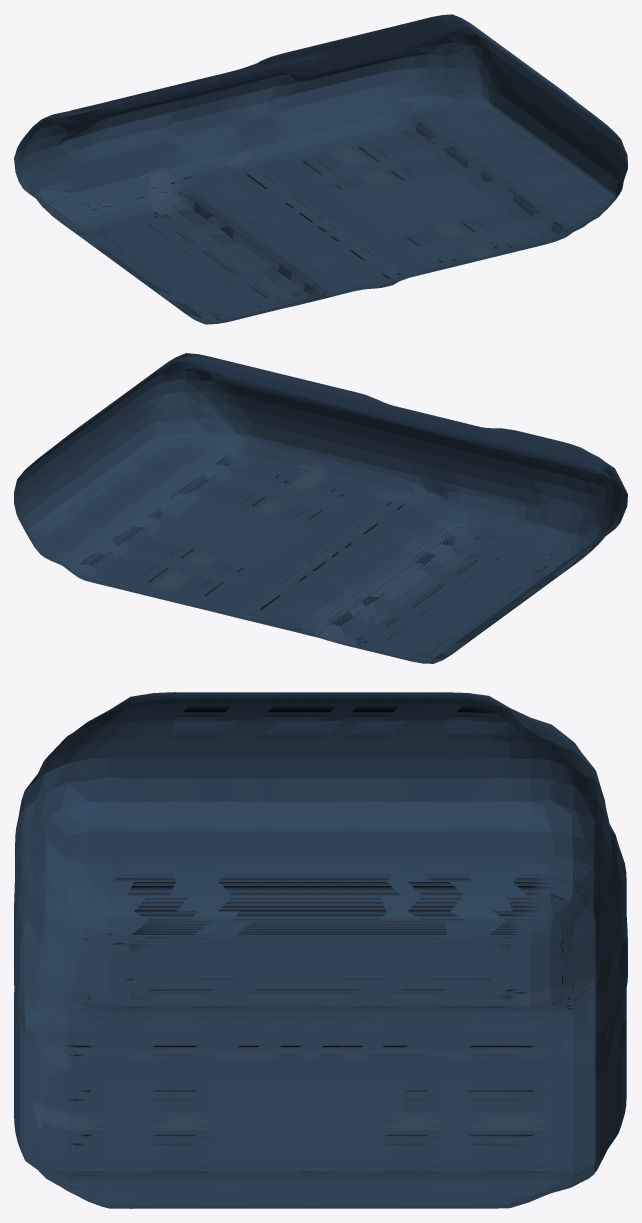
3 views of the same model, one above another, from view 1: azimuth 30°, elevation 25°; view 2: azimuth 150°, elevation 25°; view 3: azimuth 270°, elevation 25° (orthographic). The views are drawn at different scales.
Parts seen in each view (by area): view 1: model; view 2: model; view 3: model.
Part boxes in pixels (<box>): model: <box>14,14,627,324</box>; model: <box>14,353,627,663</box>; model: <box>14,692,627,1208</box>.
Bounding box in the file's own units: 1 × 0.2881 × 0.6884.
Materials: 1 (1 with a texture image).
